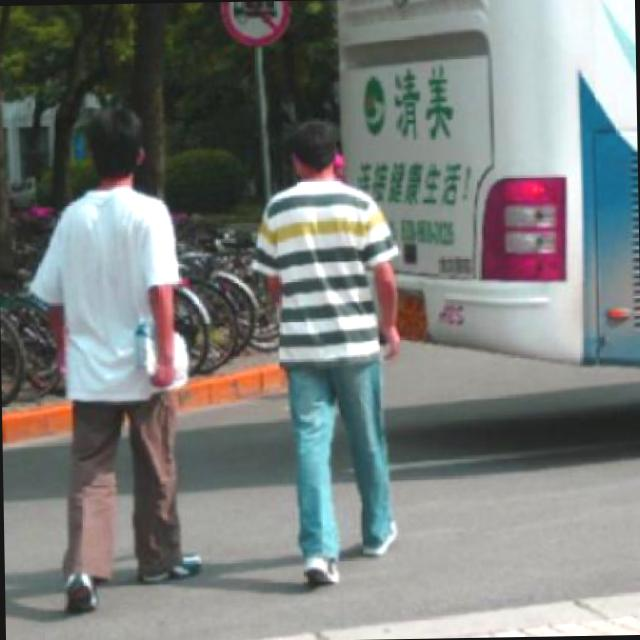Person: (44, 104, 202, 620), (253, 110, 410, 588)
